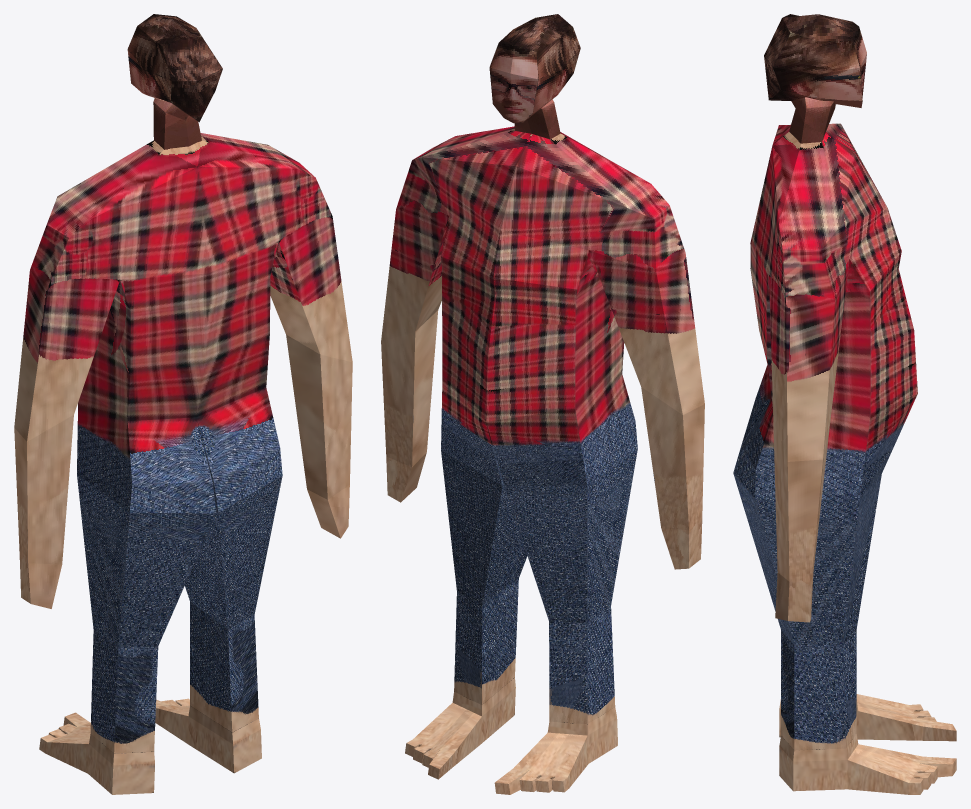
The model's file is Miluu3.glb.
3 renders of one model, left to right at view 1: azimuth 30°, elevation 25°; view 2: azimuth 150°, elevation 25°; view 3: azimuth 270°, elevation 25°, orthographic. The views are drawn at different scales.
Visible parts, largest first — view 1: Cube, Roundcube; view 2: Cube, Roundcube; view 3: Cube, Roundcube.
Boxes of the visible parts, x1,y1,x2,y2 form: Cube: (14, 98, 352, 794); Roundcube: (127, 14, 222, 122); Cube: (381, 99, 704, 794); Roundcube: (489, 14, 580, 123); Cube: (733, 97, 956, 794); Roundcube: (764, 14, 866, 107).
Bounding box in the file's own units: 0.8655 × 1.91 × 0.5203.
3 materials, 3 textured.
